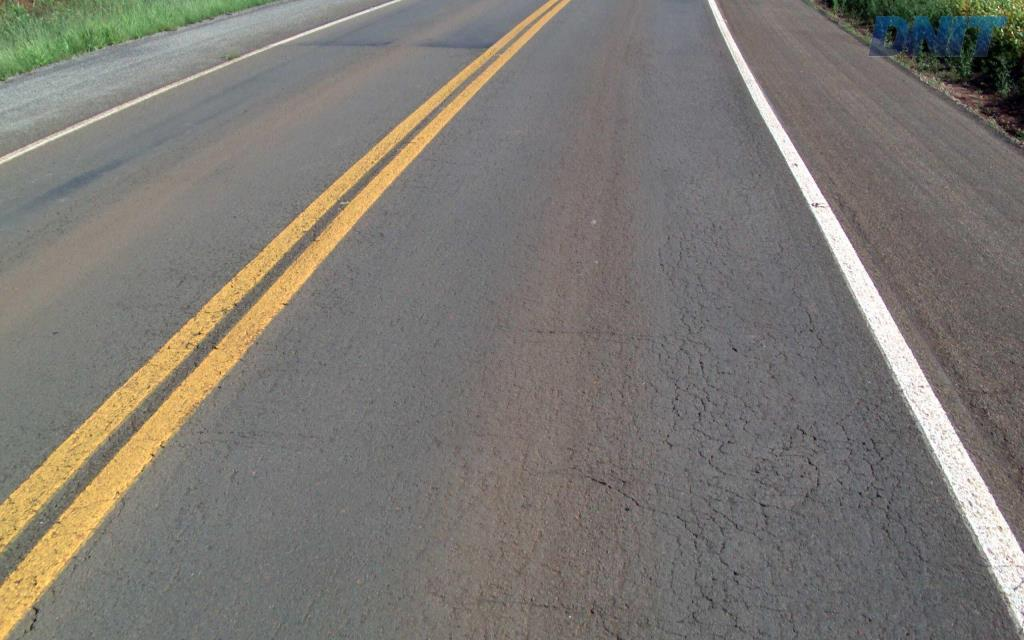crack: (835, 379, 993, 639), (676, 502, 729, 569), (712, 575, 748, 639), (836, 584, 873, 612)
